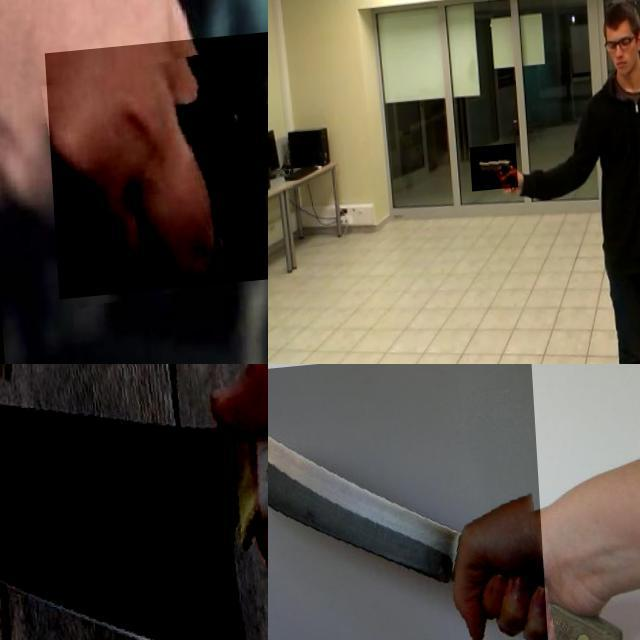-: (268, 364, 543, 640), (0, 364, 268, 640), (43, 21, 268, 300)
gun-knife-thesis - v11 Yolov5 augmented: (465, 149, 513, 196)
